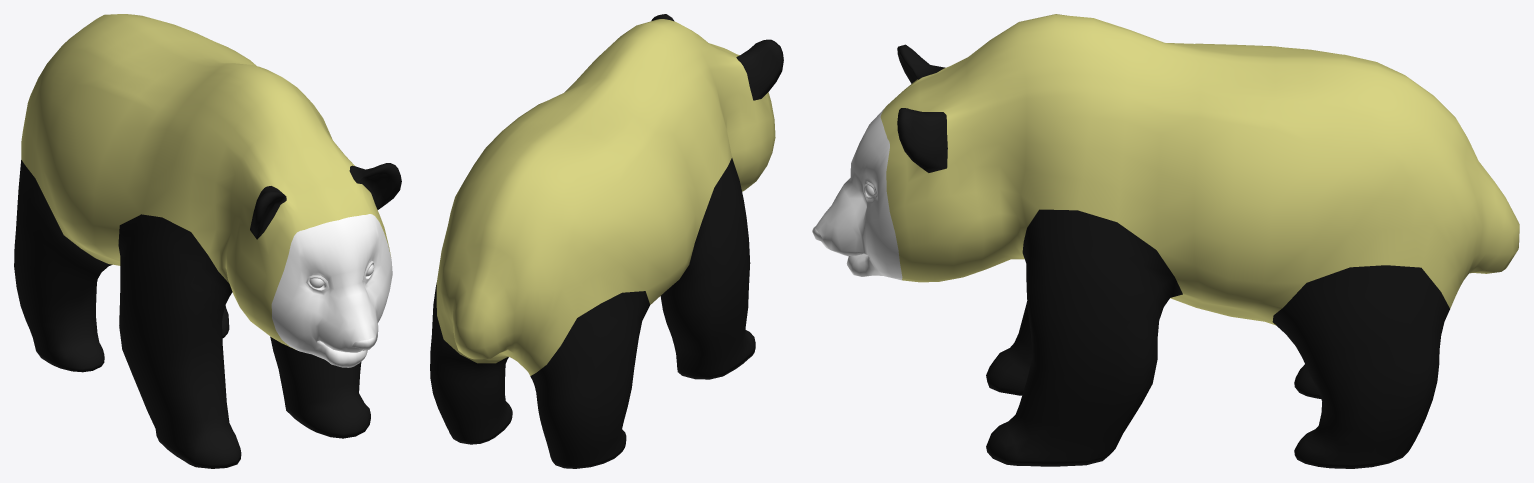
3 renders of one model, left to right at view 1: azimuth 30°, elevation 25°; view 2: azimuth 150°, elevation 25°; view 3: azimuth 270°, elevation 25°, orthographic. The views are drawn at different scales.
Parts seen in each view (by area): view 1: polySurface3 (×3); view 2: polySurface3 (×2); view 3: polySurface3 (×3).
Boxes of the visible parts, box(x1,y1,x2,y2) form: polySurface3 (×3): box(14, 14, 401, 468); polySurface3 (×2): box(430, 14, 783, 468); polySurface3 (×3): box(812, 14, 1519, 468).
Size of the model in its own units: 0.8276 by 1.26 by 2.
